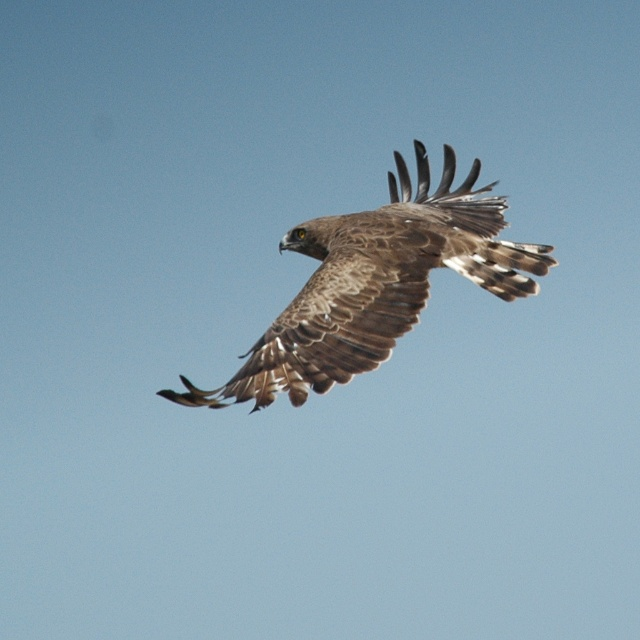Eagle: (156, 140, 559, 416)
